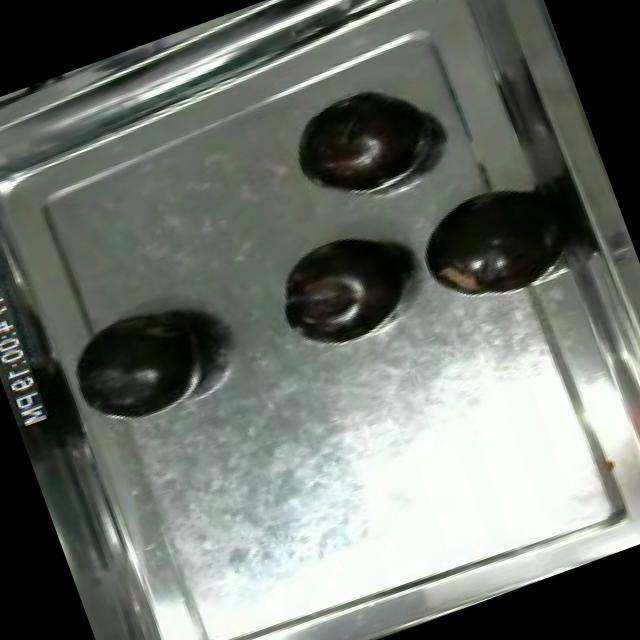Fruit: (55, 288, 226, 438), (406, 170, 568, 316), (262, 214, 428, 353), (278, 72, 439, 208)
